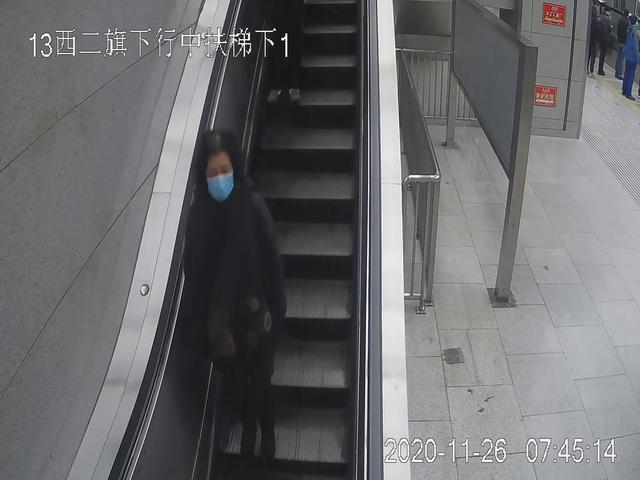person: (185, 131, 287, 456), (621, 17, 640, 102), (597, 6, 611, 77)
